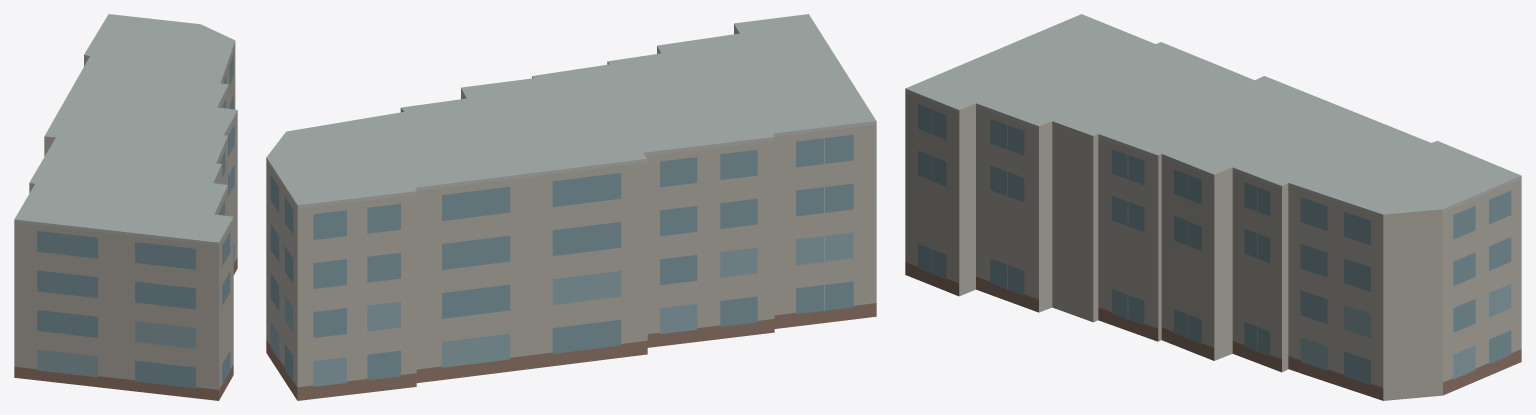
The model's file is survey-upis-32851852.glb.
3 views of the same model, side by side, from view 1: azimuth 30°, elevation 25°; view 2: azimuth 150°, elevation 25°; view 3: azimuth 270°, elevation 25° (orthographic). The views are drawn at different scales.
Parts seen in each view (by area): view 1: survey-upis-32851852.tmp; view 2: survey-upis-32851852.tmp; view 3: survey-upis-32851852.tmp.
Part boxes in pixels (<box>): survey-upis-32851852.tmp: <box>14,14,237,400</box>; survey-upis-32851852.tmp: <box>266,14,876,400</box>; survey-upis-32851852.tmp: <box>905,14,1521,400</box>.
Bounding box in the file's own units: 30.96 × 13.4 × 40.19.
